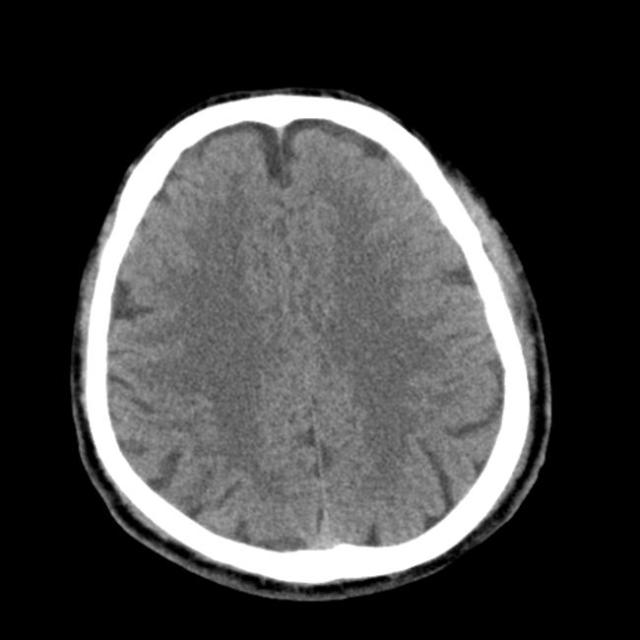lesion: (68, 84, 554, 598)
